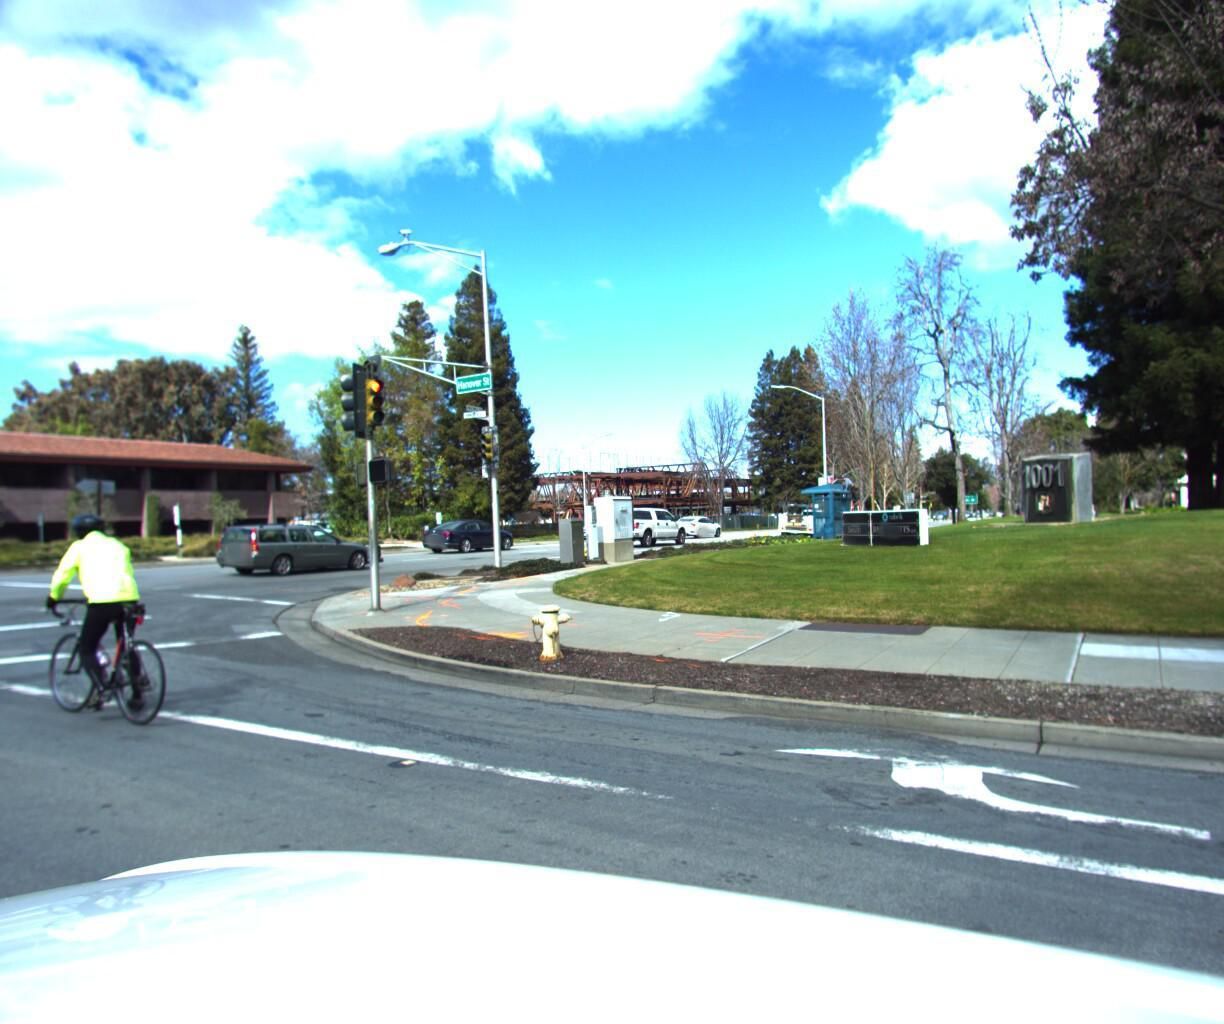bicycle: (16, 509, 226, 743)
car: (215, 521, 392, 582), (419, 520, 525, 557), (600, 510, 696, 548), (667, 515, 728, 542)
